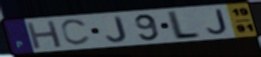9: (135, 13, 160, 41)
C: (59, 18, 92, 47)
H: (25, 19, 64, 51)
J: (105, 15, 129, 43), (206, 8, 230, 36)
L: (167, 10, 202, 41)
